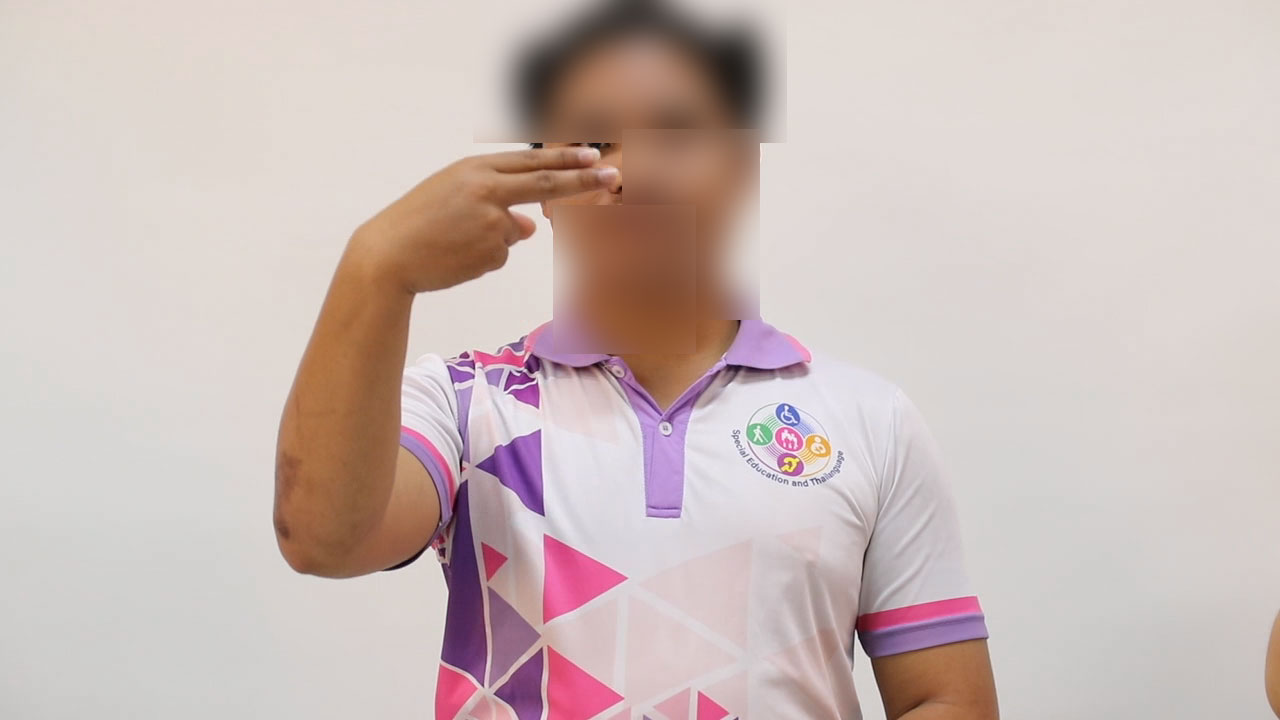hor: (338, 139, 633, 301)
